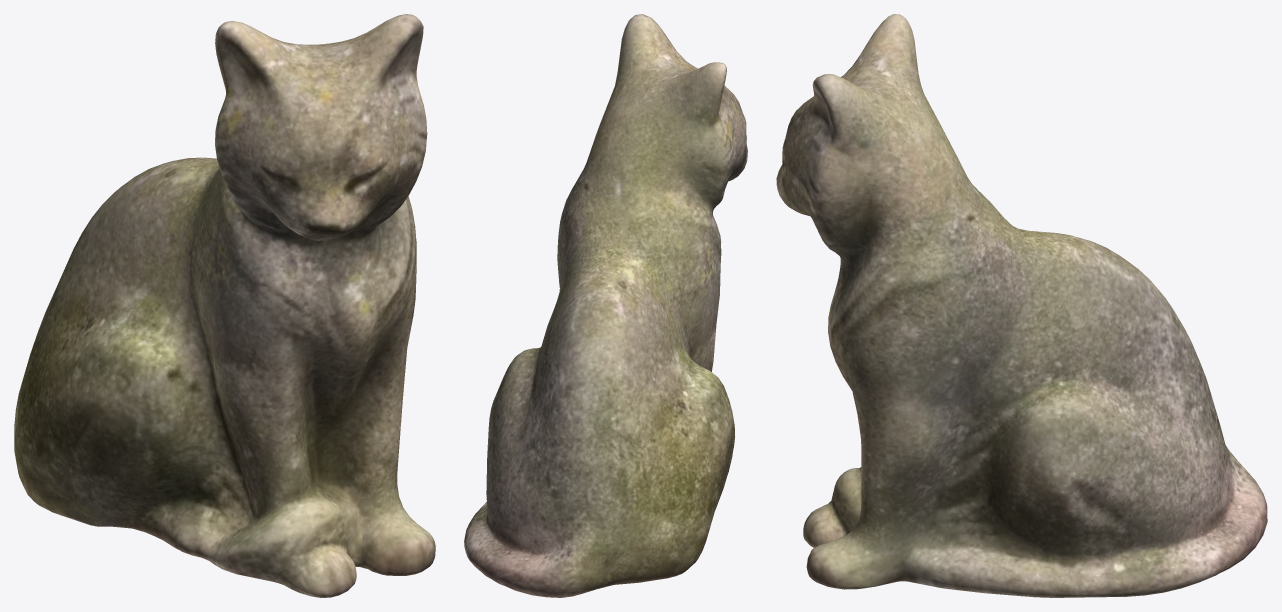
Rendered from concrete_cat_statue.glb.
3 renders of one model, left to right at view 1: azimuth 30°, elevation 25°; view 2: azimuth 150°, elevation 25°; view 3: azimuth 270°, elevation 25°, orthographic. The views are drawn at different scales.
Visible parts, largest first — view 1: concrete_cat_statue; view 2: concrete_cat_statue; view 3: concrete_cat_statue.
Part boxes in pixels (<box>): concrete_cat_statue: <box>14,14,435,597</box>; concrete_cat_statue: <box>464,14,747,597</box>; concrete_cat_statue: <box>776,14,1267,597</box>.
Size of the model in its own units: 0.153 by 0.283 by 0.25.
Materials: 1 (1 with a texture image).
